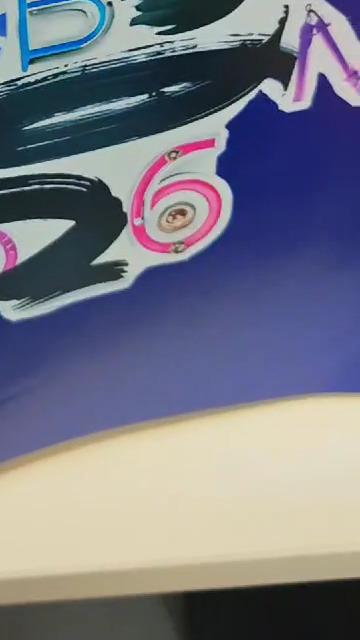B_R1: (0, 0, 359, 507)
